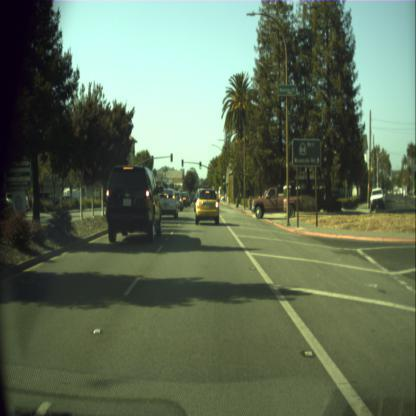Green: (222, 181, 225, 187), (199, 160, 201, 168)
Yellow: (222, 174, 225, 179)
